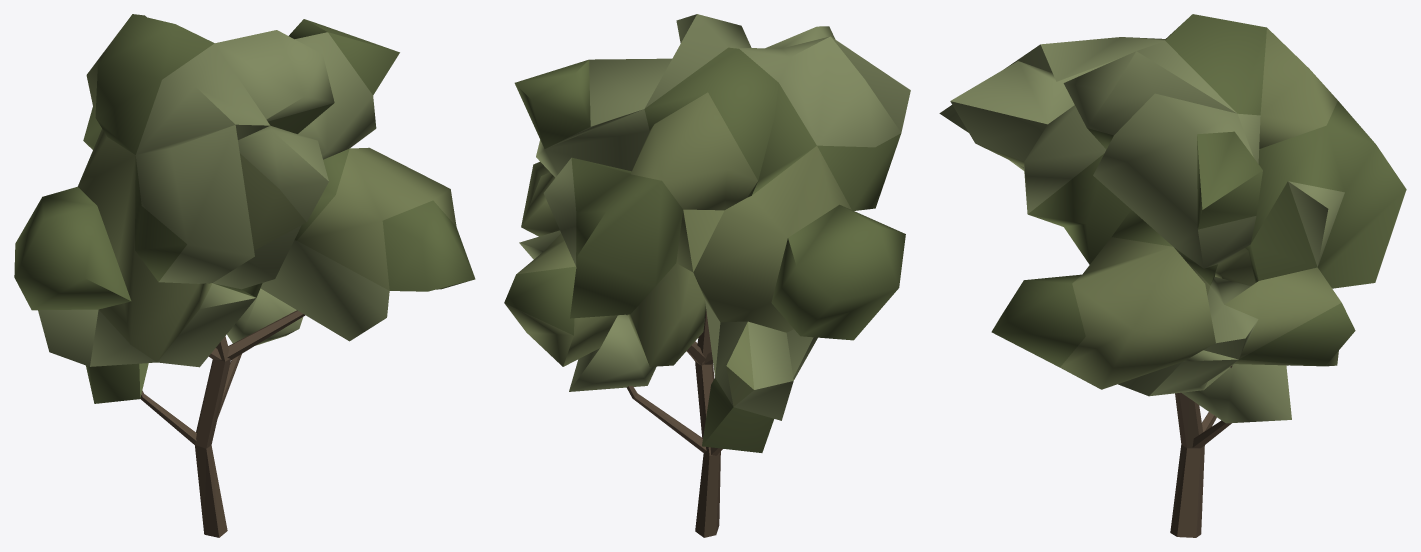
File: source-approved.glb
The picture shows the model from 3 angles, left to right: view 1: azimuth 30°, elevation 25°; view 2: azimuth 150°, elevation 25°; view 3: azimuth 270°, elevation 25°; orthographic projection. The views are drawn at different scales.
Parts seen in each view (by area): view 1: Лиственное · широкое; view 2: Лиственное · широкое; view 3: Лиственное · широкое.
Boxes of the visible parts, <box> form: Лиственное · широкое: <box>14,14,475,537</box>; Лиственное · широкое: <box>504,14,910,537</box>; Лиственное · широкое: <box>939,14,1406,537</box>.
Size of the model in its own units: 17.25 by 20.77 by 17.41.
